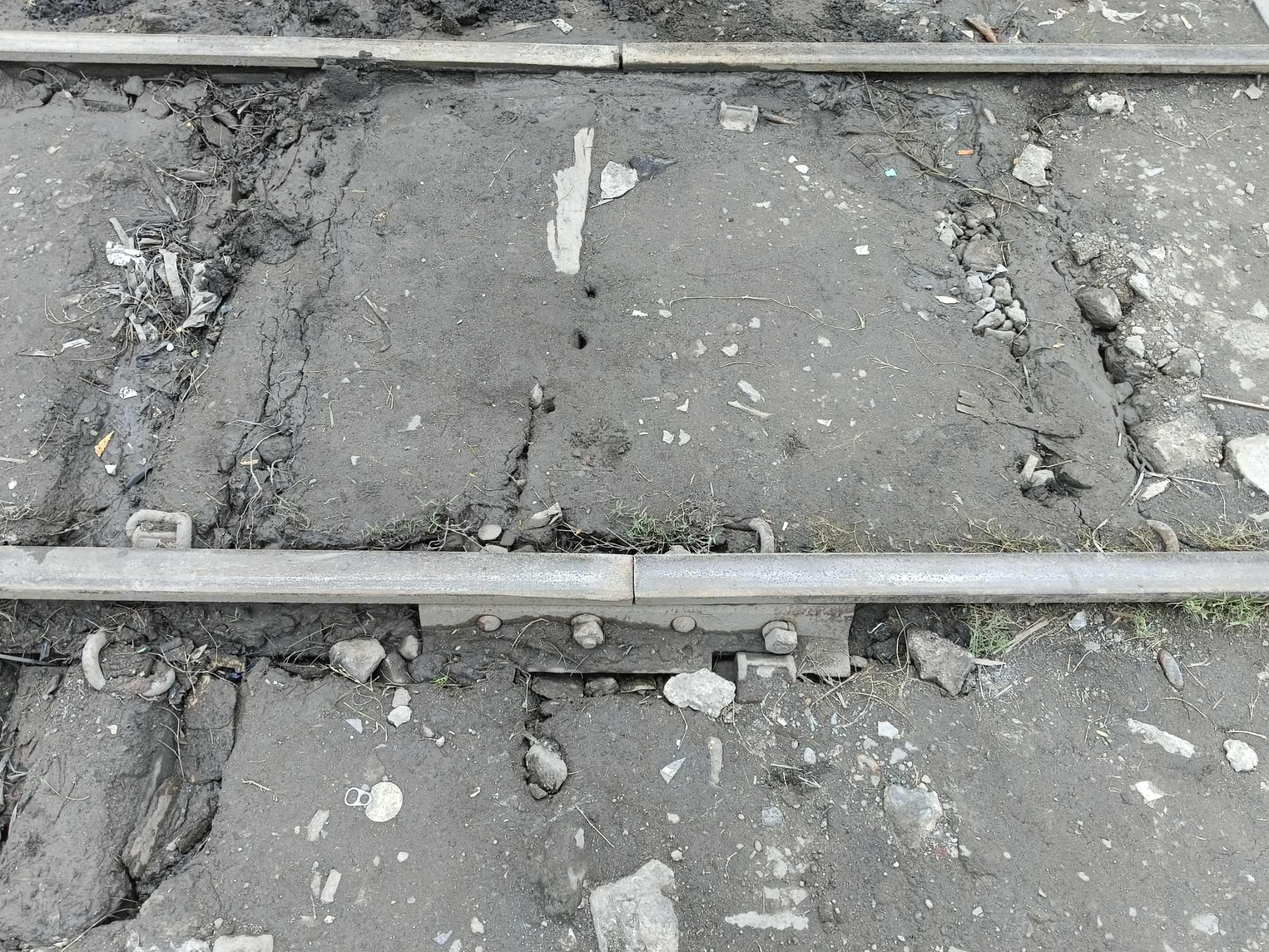railway-gap: (583, 517, 687, 634), (586, 20, 660, 92)
